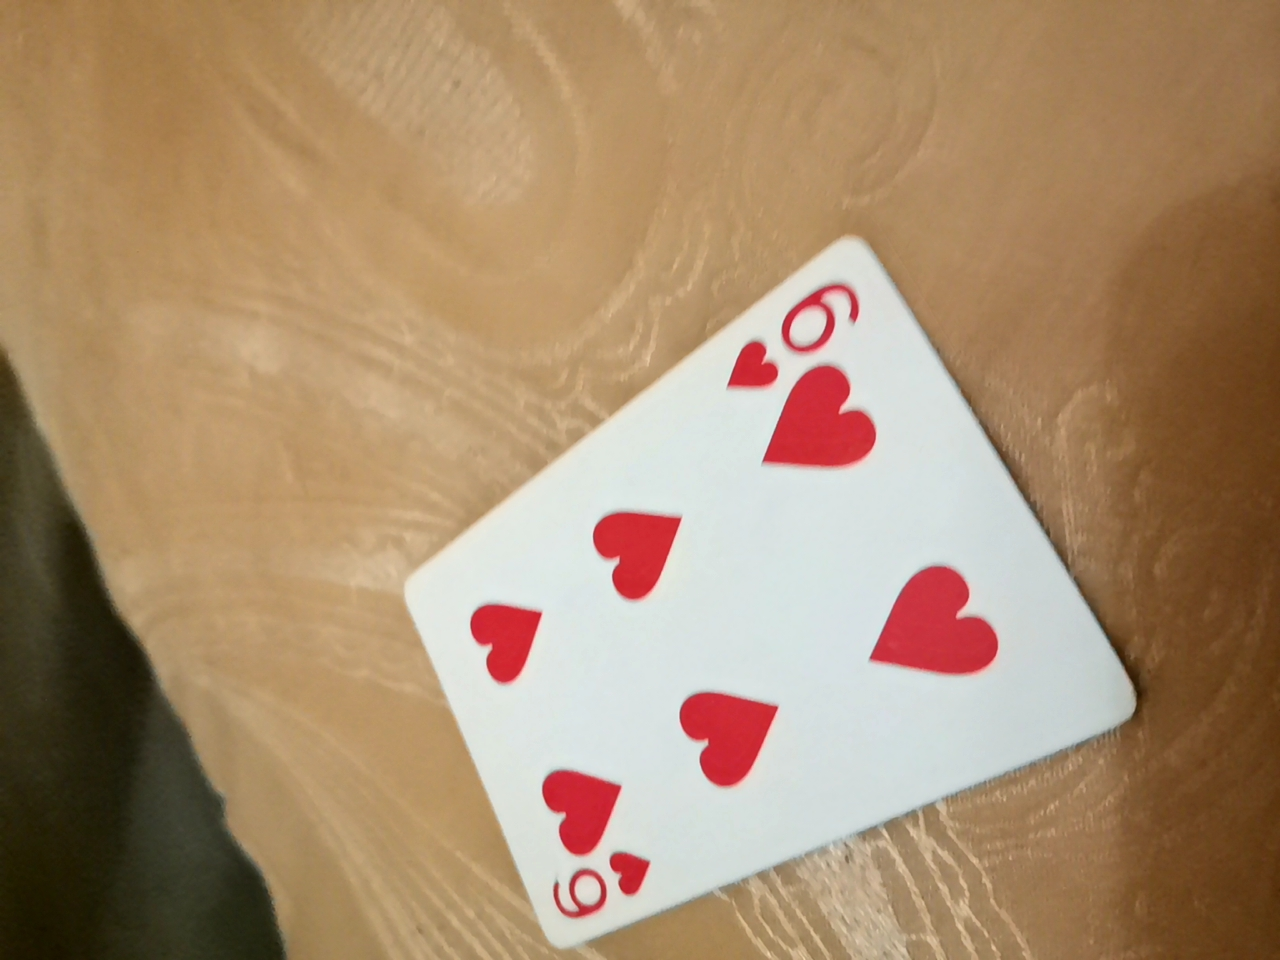hx 6: (361, 93, 1172, 834)
